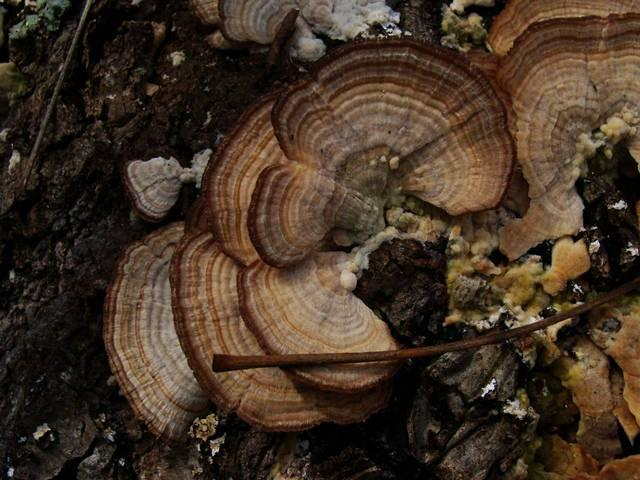Non-edible Mushroom: (100, 1, 639, 443), (245, 35, 516, 268), (485, 0, 639, 261)
